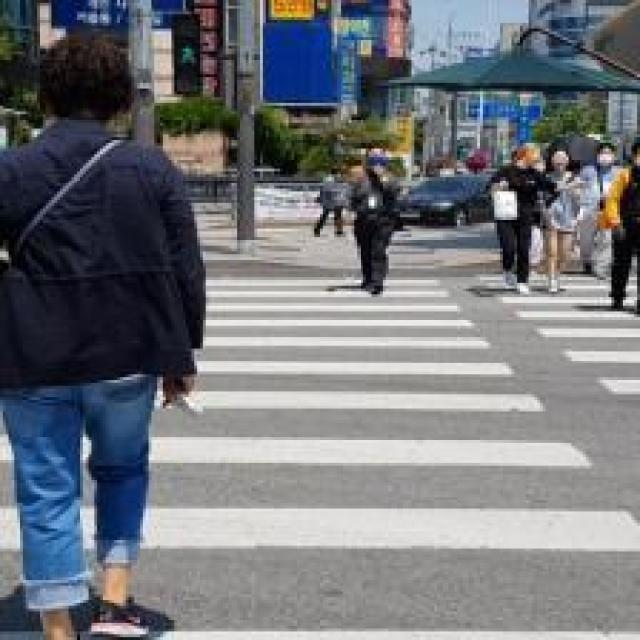crosswalk: (1, 251, 640, 640)
